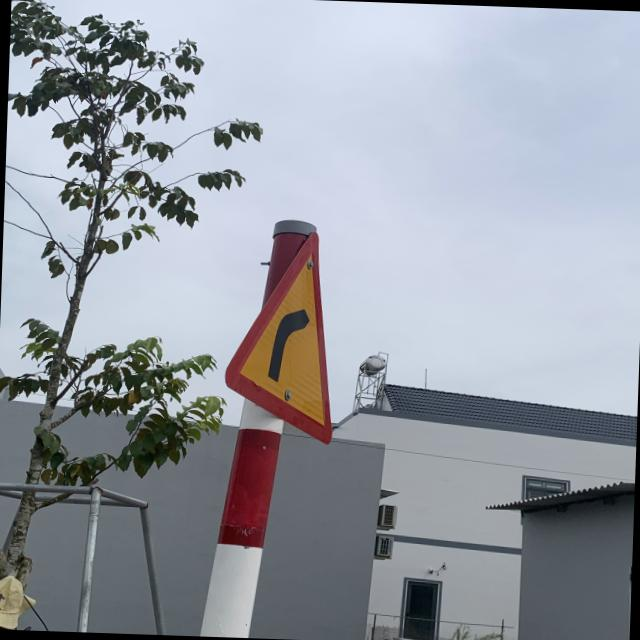Duong_Nguoi_Di_Bo_Cat_Ngang: (217, 226, 348, 447)
